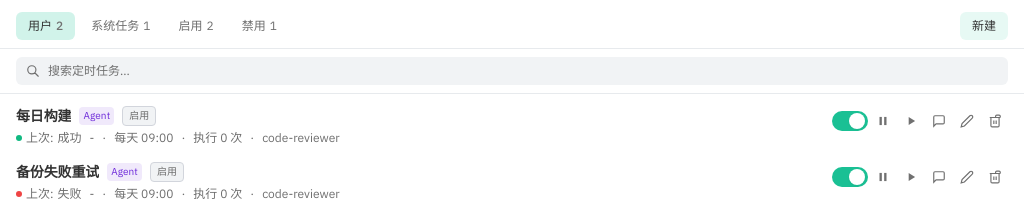
Scenario: 筛选即统计 › 计数与筛选同源：每个维度显示的数 = 点进去看到的那一批
Expected: the text "每日构建" is shown, x1=16 y1=106 x2=72 y2=126
Expected: the text "备份失败重试" is shown, x1=16 y1=162 x2=99 y2=182
// 禁用（计数 1）→ 只剩禁用的那条
Click the button "禁用1" at x=259, y=26, box x1=230 y1=12 x2=289 y2=40
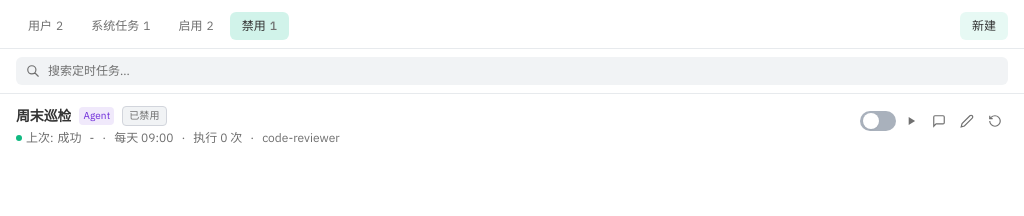
Expected: the text "周末巡检" is shown, x1=16 y1=106 x2=72 y2=126
Expected: the button "每日构建" is gone
Expected: the button "备份失败重试" is gone
